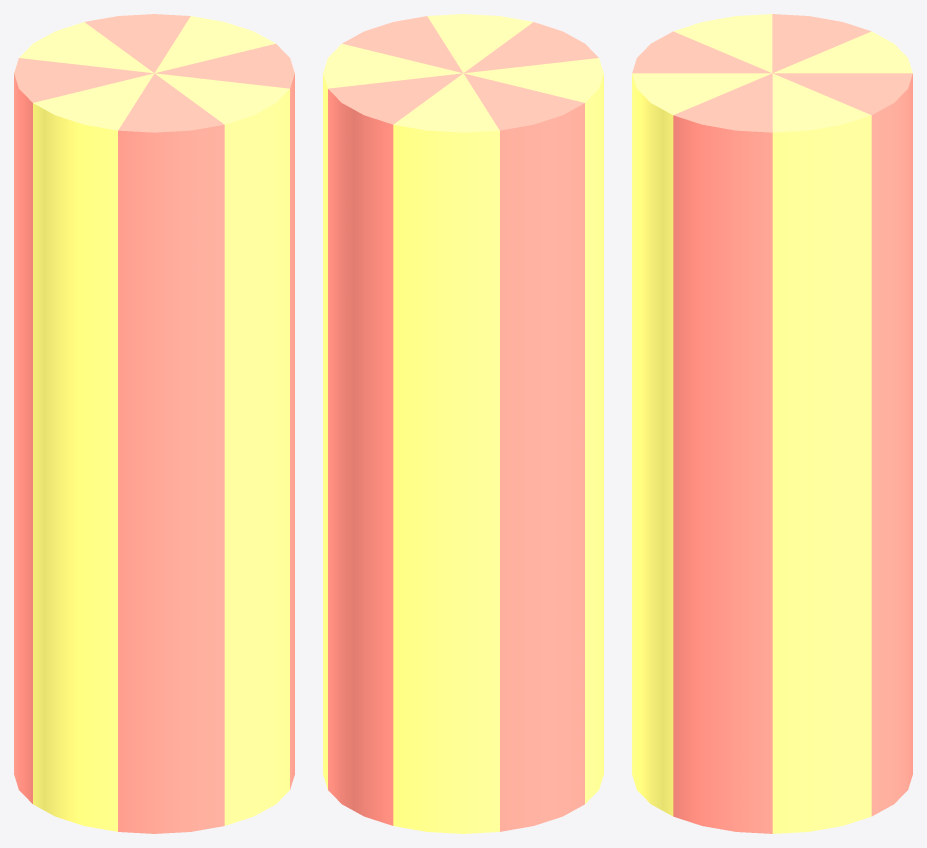
3 views of the same model, side by side, from view 1: azimuth 30°, elevation 25°; view 2: azimuth 150°, elevation 25°; view 3: azimuth 270°, elevation 25° (orthographic).
Parts seen in each view (by area): view 1: model_4; view 2: model_4; view 3: model_4.
Boxes of the visible parts, x1,y1,x2,y2 form: model_4: (14,14,294,833); model_4: (323,14,603,833); model_4: (632,14,912,833).
Bounding box in the file's own units: 0.1016 × 0.28 × 0.1016.
